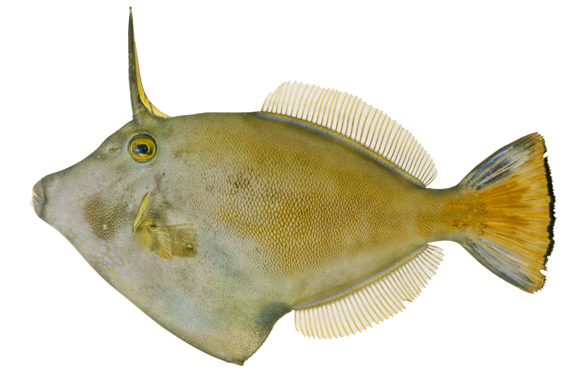fish: (31, 7, 556, 365)
